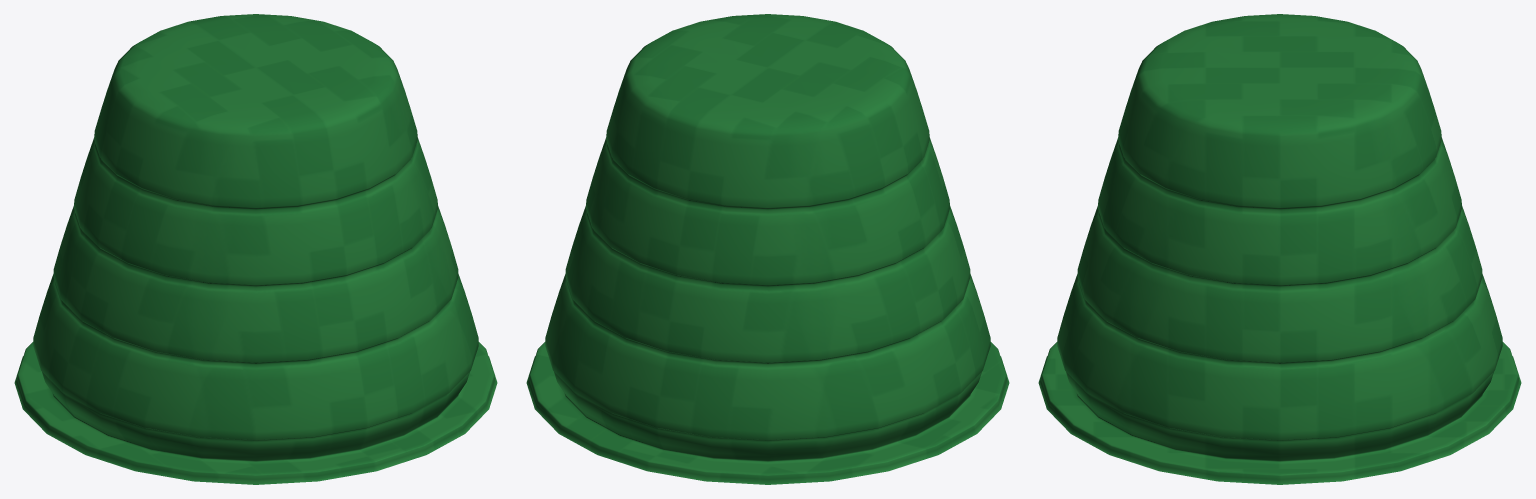
The model's file is pedestal.fbx.
3 renders of one model, left to right at view 1: azimuth 30°, elevation 25°; view 2: azimuth 150°, elevation 25°; view 3: azimuth 270°, elevation 25°, orthographic.
Visible parts, largest first — view 1: pedestal; view 2: pedestal; view 3: pedestal.
Boxes of the visible parts, x1,y1,x2,y2 form: pedestal: (14,14,497,484); pedestal: (526,14,1009,484); pedestal: (1038,14,1521,484).
Size of the model in its own units: 49.79 by 35.85 by 49.79.
Materials: 1 (1 with a texture image).
